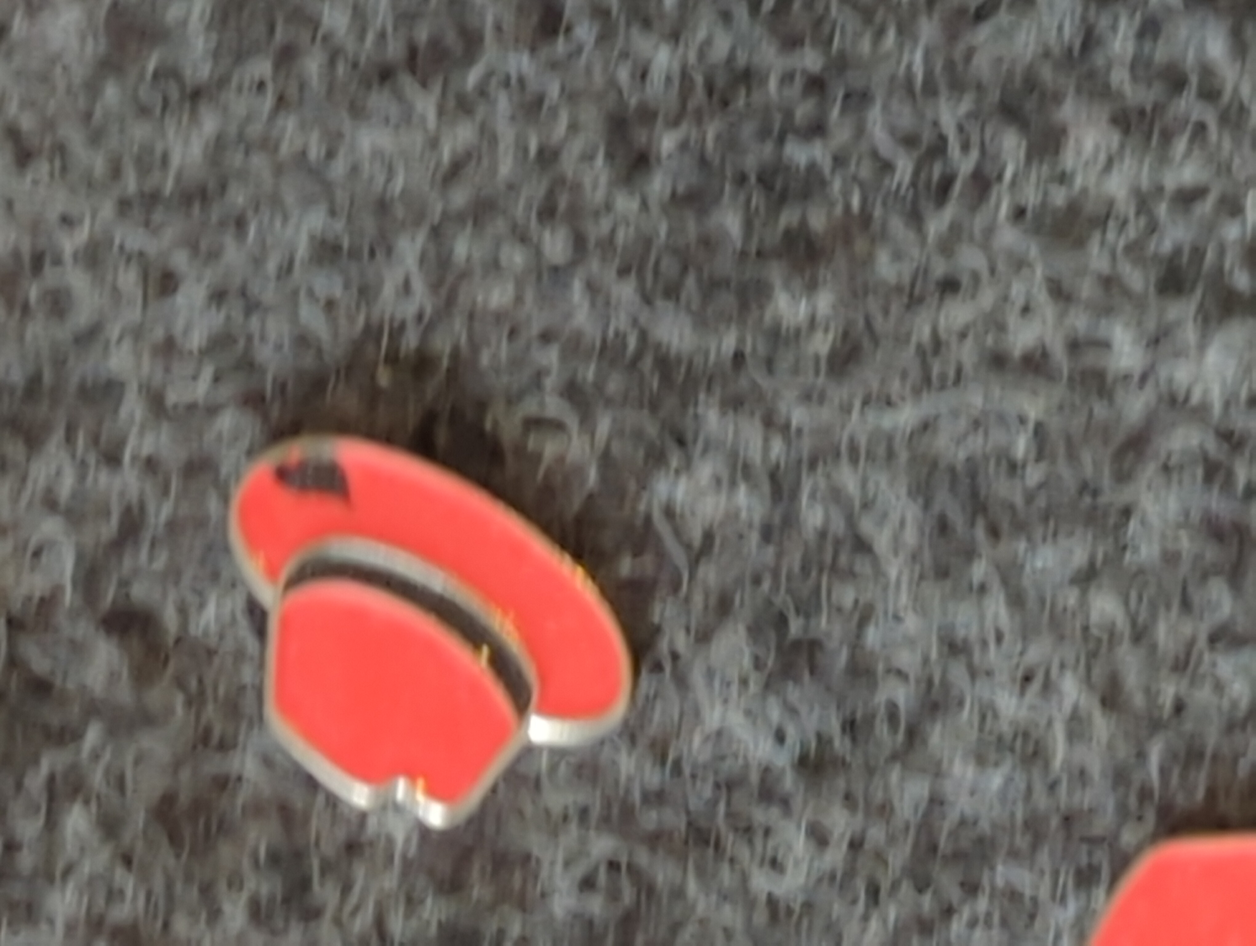Red-Hat: (115, 299, 746, 929)
Scratch: (244, 433, 406, 536)
